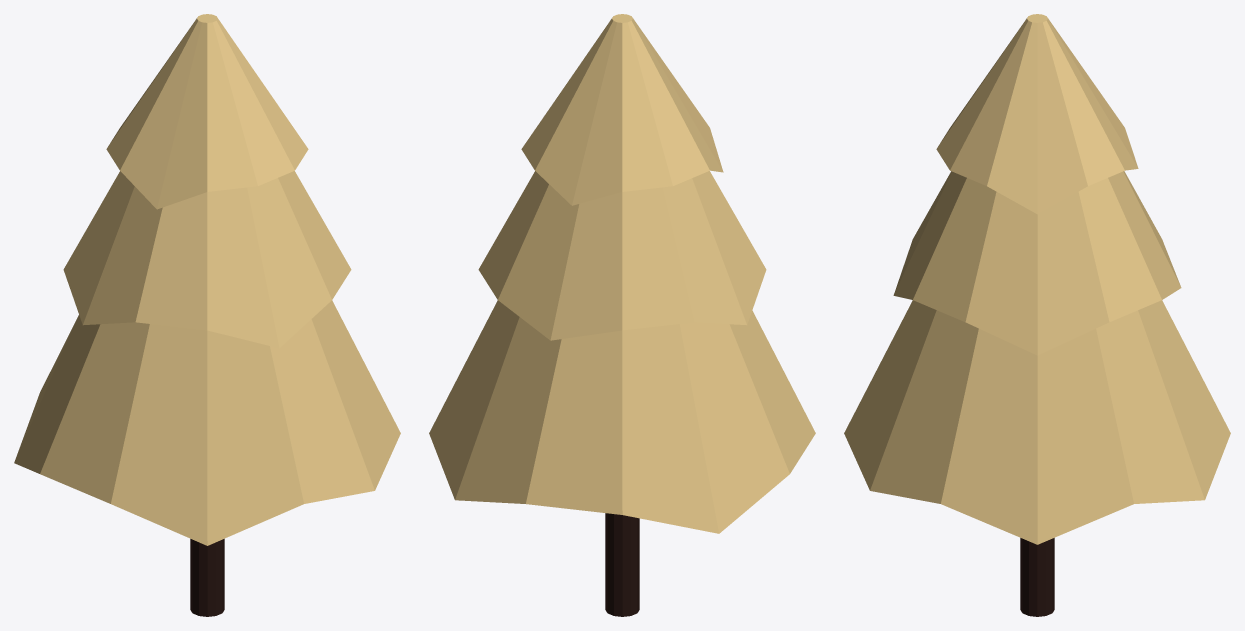
File: tree.fbx
The picture shows the model from 3 angles, left to right: view 1: azimuth 30°, elevation 25°; view 2: azimuth 150°, elevation 25°; view 3: azimuth 270°, elevation 25°; orthographic projection.
Parts seen in each view (by area): view 1: Circle; view 2: Circle; view 3: Circle.
Part boxes in pixels (bbox=[...]): Circle: bbox=[14, 14, 400, 616]; Circle: bbox=[429, 14, 815, 616]; Circle: bbox=[844, 14, 1230, 616].
Bounding box in the file's own units: 1413 × 2382 × 1413.
